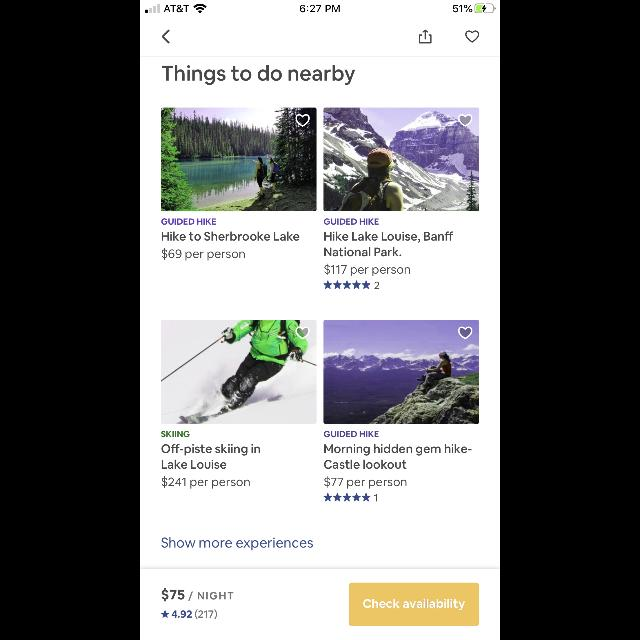icon: (324, 492, 371, 502), (324, 281, 370, 289), (418, 30, 432, 44), (296, 326, 310, 339), (458, 326, 472, 339), (296, 115, 310, 127), (459, 114, 473, 126), (465, 31, 479, 43), (162, 30, 170, 44), (162, 610, 168, 618)
image: (324, 108, 478, 212), (162, 108, 316, 212), (324, 321, 478, 424), (162, 321, 316, 424)
text: (162, 65, 356, 85), (162, 538, 312, 550), (324, 444, 472, 456), (324, 232, 454, 242), (162, 444, 260, 456), (162, 232, 300, 240), (162, 476, 250, 488), (324, 264, 410, 276), (162, 588, 234, 602), (162, 248, 245, 260), (325, 476, 407, 488), (325, 459, 407, 468), (324, 248, 402, 256), (162, 459, 226, 468), (324, 431, 378, 437), (324, 219, 378, 225), (162, 219, 216, 225), (195, 610, 217, 618), (162, 431, 190, 437), (172, 610, 192, 618), (374, 494, 378, 502), (375, 282, 379, 290)
textbutton: (349, 582, 479, 626)
uppertaskbar: (140, 0, 500, 14)
